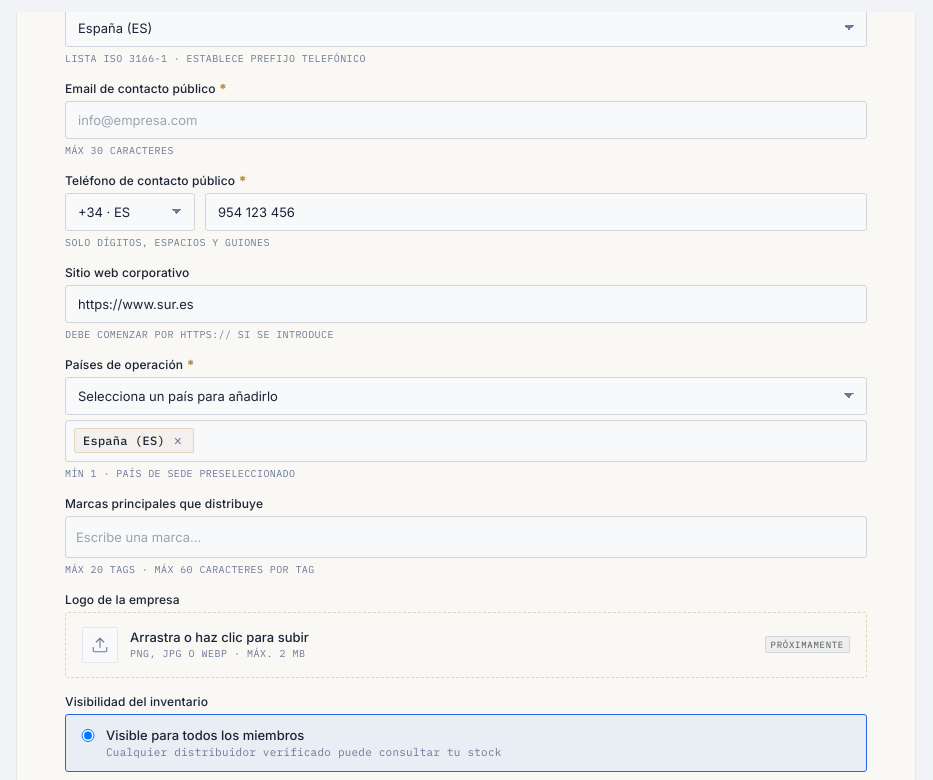
Test: REG-01 · etiquetas de países y de marcas › los países añadidos van en una caja aparte, en varias líneas, con su botón de quitar
The image size is (933, 780).
(page scrolled)
Step 1. Select "Alemania (DE)" in the dropdown labelled "Países de operación" → (466,396), box [65,377,867,415]
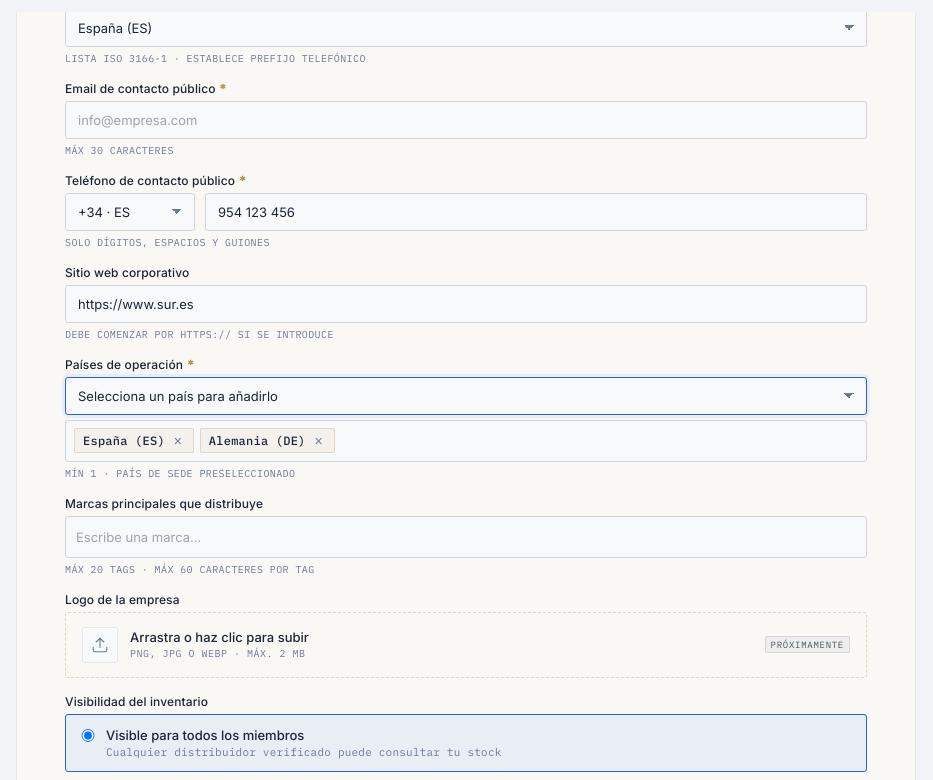
Step 2. Select "Francia (FR)" in the dropdown labelled "Países de operación" → (466,396), box [65,377,867,415]
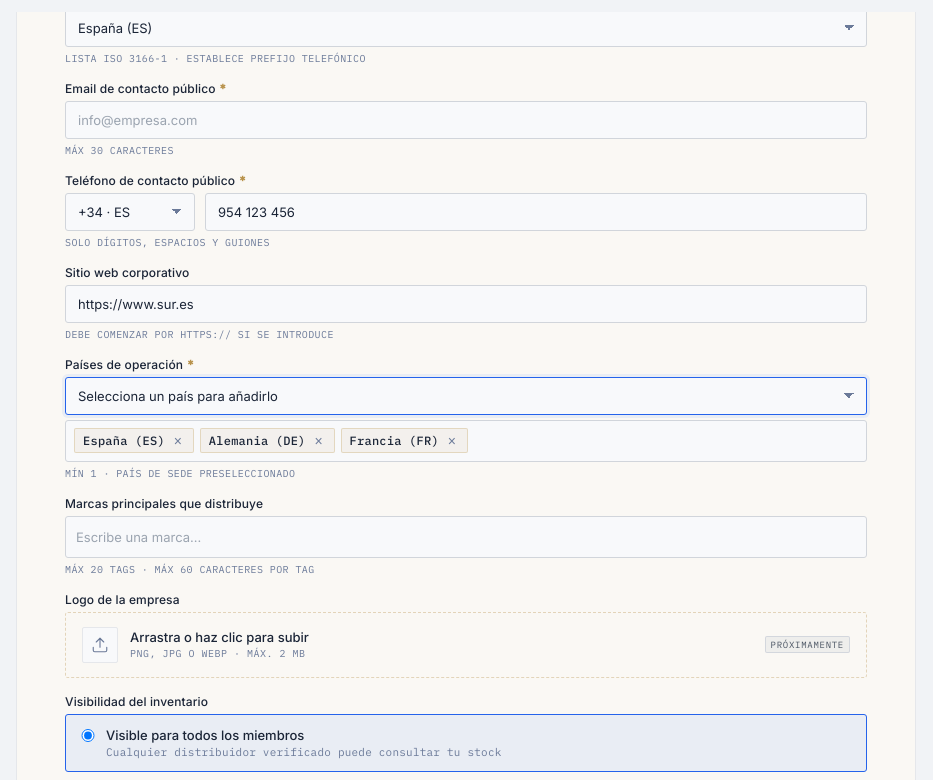
Now the text "Alemania (DE)" is shown, box [209,433,306,448]
Now the text "Francia (FR)" is shown, box [350,433,439,448]
Now the number of buttons is 3, box [171,434,185,448]; [312,434,326,448]; [445,434,459,448]
